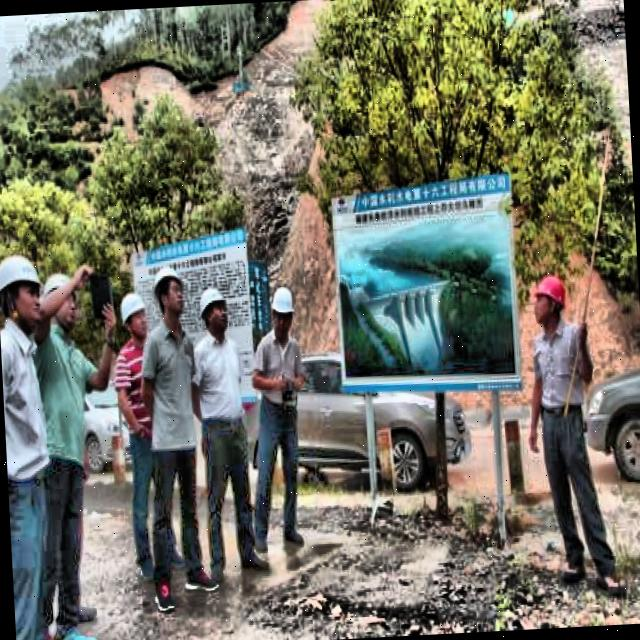helmet: (0, 246, 43, 329), (41, 266, 81, 336), (116, 286, 154, 350), (533, 271, 571, 334), (152, 262, 190, 325), (196, 282, 232, 338), (267, 279, 298, 338)
